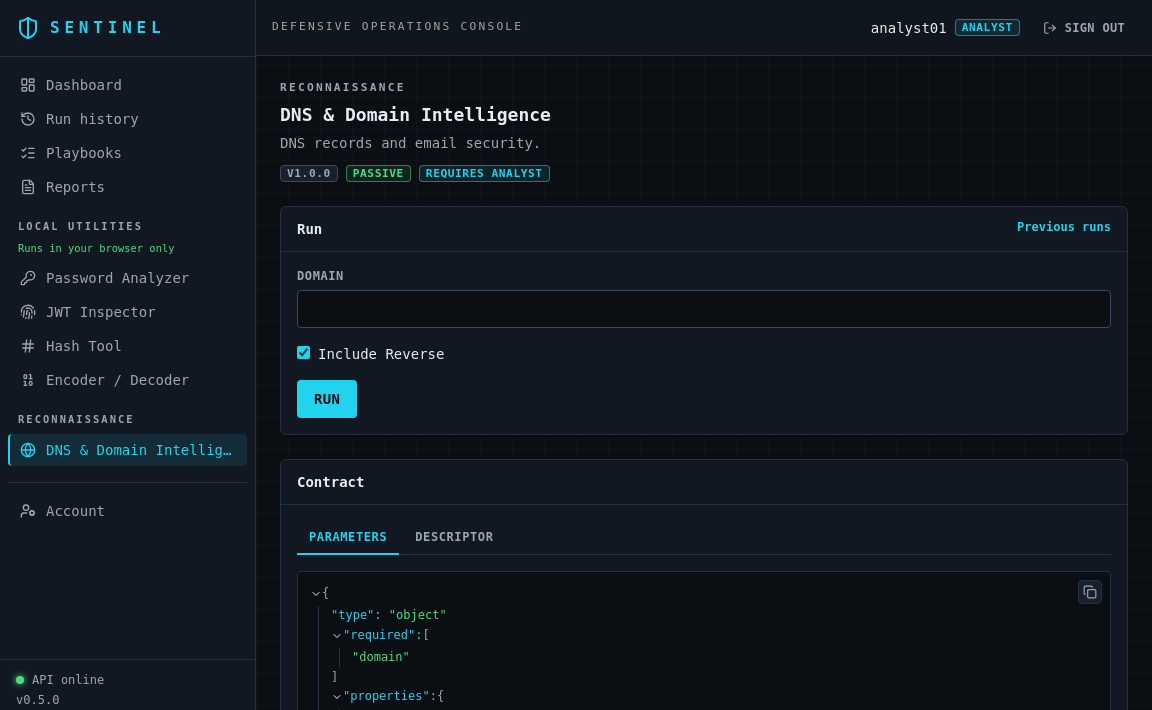
Test: starting a run › shows server validation errors on the field
In the field labelled "Domain": [704, 309] box [297, 290, 1111, 328], type "postgres.internal"
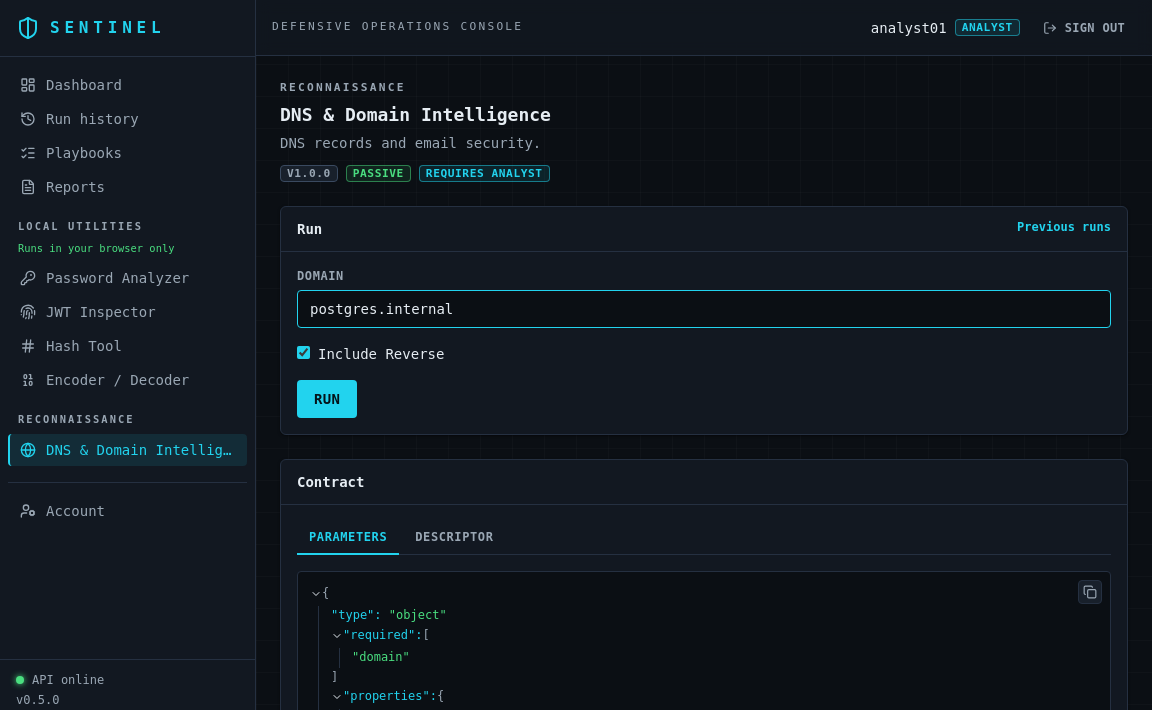
Click the button "Run": [327, 399] box [297, 380, 357, 418]
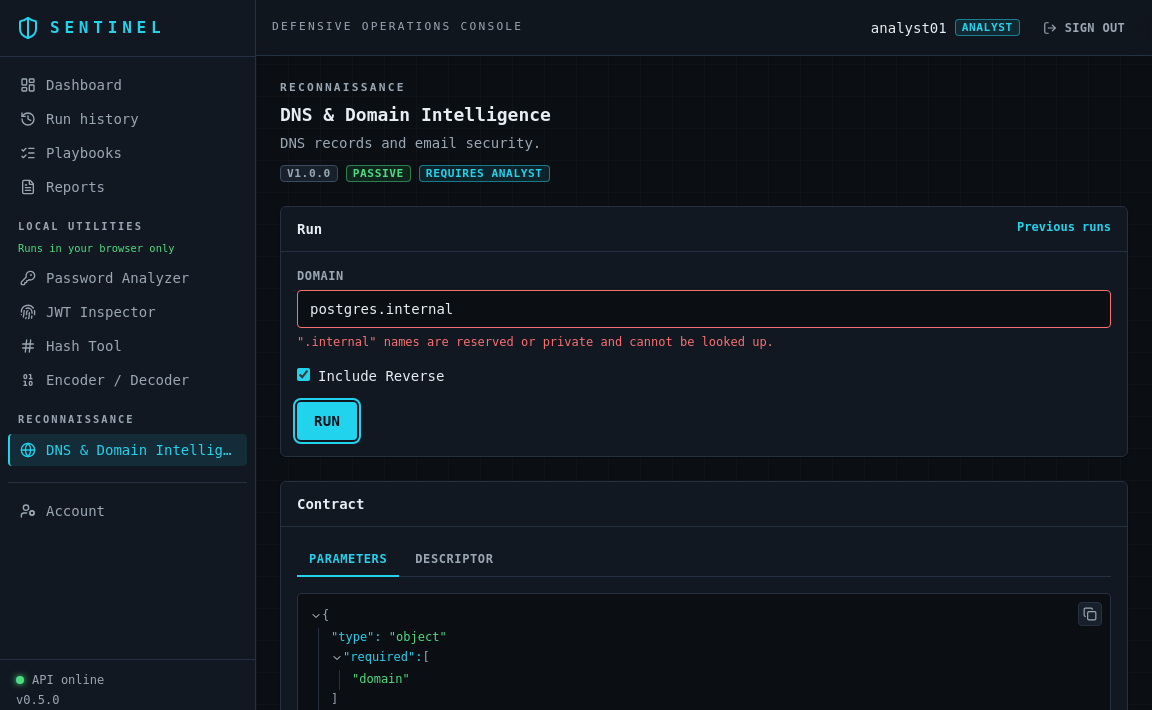
Check: the text "\".internal\" names are reserved" is shown, box [297, 335, 774, 349]
